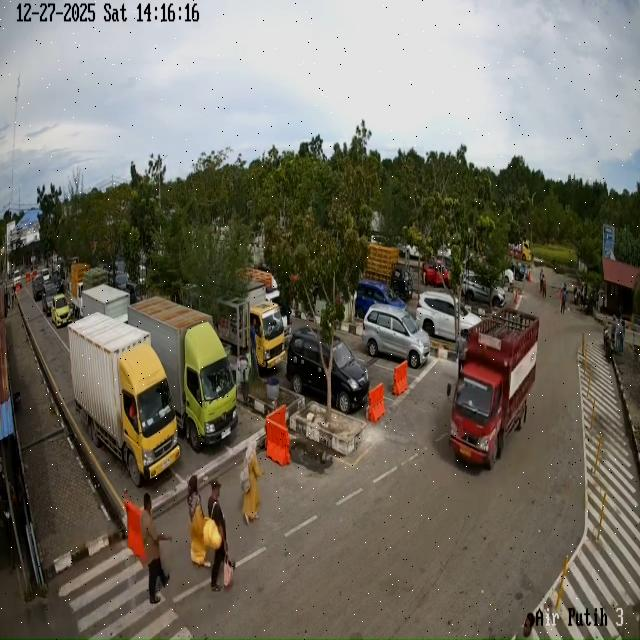Golongan IVA: (286, 327, 370, 414), (362, 304, 430, 368), (416, 291, 481, 341), (355, 279, 406, 320), (462, 271, 506, 308), (51, 294, 71, 328), (42, 282, 58, 316), (32, 274, 44, 301)
Golongan VB: (69, 313, 180, 486), (128, 297, 238, 451), (447, 308, 539, 468), (216, 280, 285, 369)
